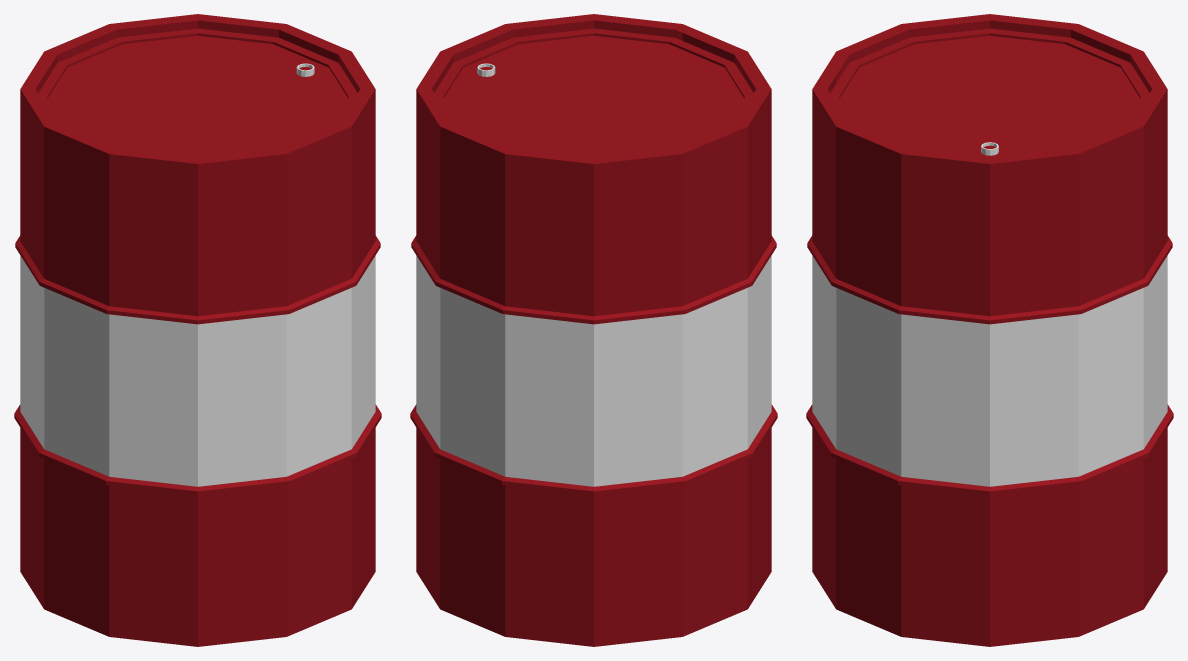
The model's file is RedBarrel.fbx.
3 views of the same model, side by side, from view 1: azimuth 30°, elevation 25°; view 2: azimuth 150°, elevation 25°; view 3: azimuth 270°, elevation 25° (orthographic).
Visible parts, largest first — view 1: Top, Middle, Bottom, Cover; view 2: Top, Middle, Bottom, Cover; view 3: Top, Middle, Bottom, Cover.
Part boxes in pixels (left/top/right/bottom): Top: left=15, top=14, right=380, bottom=324; Middle: left=20, top=255, right=375, bottom=486; Bottom: left=14, top=404, right=381, bottom=646; Cover: left=48, top=35, right=347, bottom=157; Top: left=411, top=14, right=776, bottom=324; Middle: left=416, top=255, right=771, bottom=486; Bottom: left=410, top=404, right=777, bottom=646; Cover: left=444, top=35, right=743, bottom=157; Top: left=807, top=14, right=1172, bottom=324; Middle: left=812, top=255, right=1167, bottom=486; Bottom: left=806, top=404, right=1173, bottom=646; Cover: left=840, top=35, right=1139, bottom=157.
Size of the model in its own units: 2.07 by 3 by 2.07.
